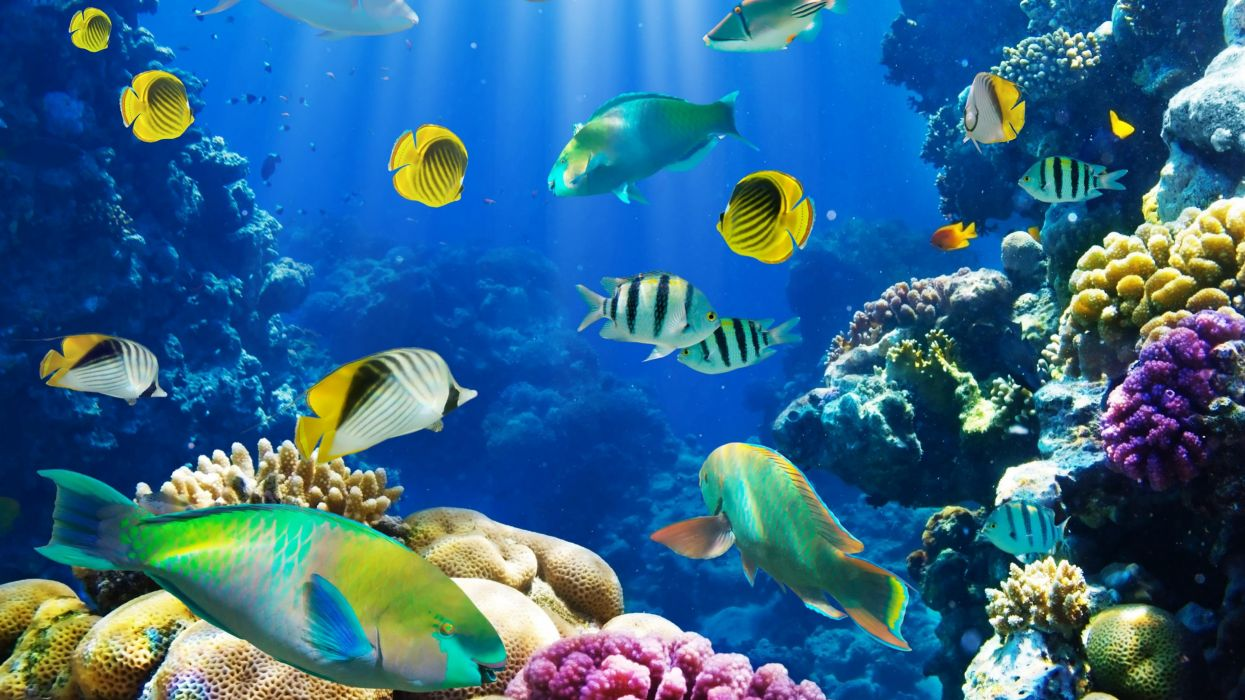fish: (17, 460, 522, 700), (642, 428, 933, 664), (525, 92, 774, 201), (285, 343, 488, 469), (564, 265, 730, 366), (20, 322, 203, 405), (719, 168, 827, 278), (356, 114, 486, 203), (676, 314, 823, 381), (696, 1, 839, 68), (942, 62, 1043, 153), (1002, 154, 1135, 221), (975, 497, 1090, 557), (113, 67, 188, 151), (51, 4, 114, 53), (923, 223, 988, 258)
